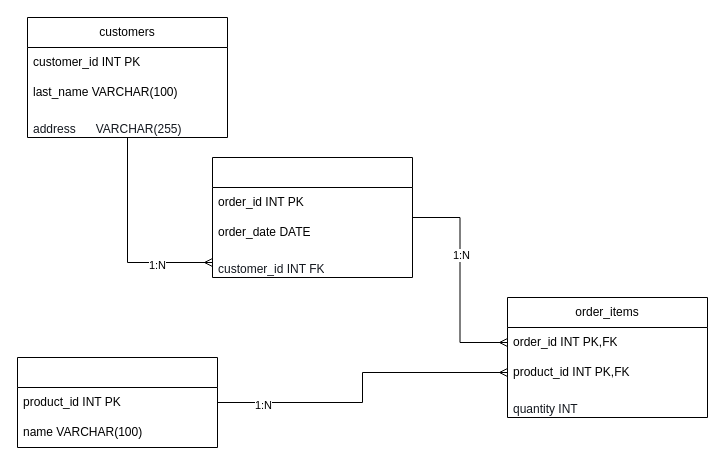
Image size: 725x465. Some labels were removed from this diagram. Here are the shapes that lost their labels. From the top down, the box of each, then its label:
(212, 156, 412, 278): orders
(16, 356, 218, 448): products
